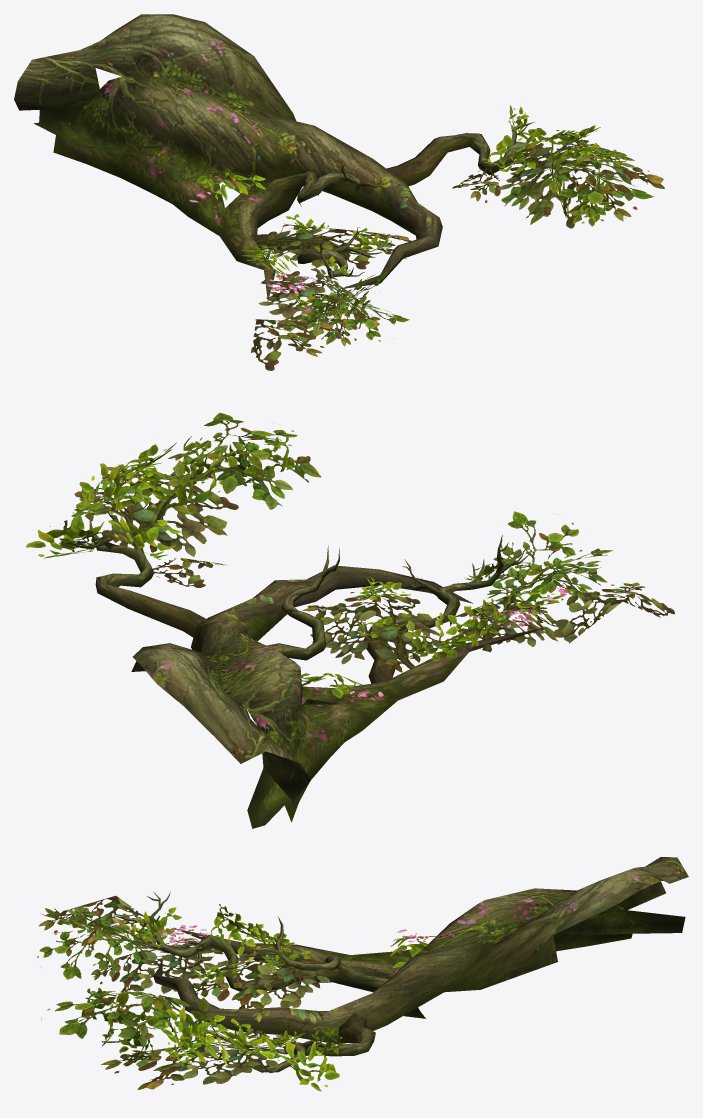
Rendered from S_Tree_Green125_A3.FBX.
The picture shows the model from 3 angles, top to bottom: view 1: azimuth 30°, elevation 25°; view 2: azimuth 150°, elevation 25°; view 3: azimuth 270°, elevation 25°; orthographic projection. The views are drawn at different scales.
Parts seen in each view (by area): view 1: S_Tree_Green125_A3_1, S_Tree_Green125_A3_2; view 2: S_Tree_Green125_A3_1, S_Tree_Green125_A3_2; view 3: S_Tree_Green125_A3_1, S_Tree_Green125_A3_2.
Boxes of the visible parts, <box> form: S_Tree_Green125_A3_1: <box>14,14,592,301</box>; S_Tree_Green125_A3_2: <box>189,105,664,370</box>; S_Tree_Green125_A3_1: <box>60,494,544,828</box>; S_Tree_Green125_A3_2: <box>26,412,674,701</box>; S_Tree_Green125_A3_1: <box>113,857,688,1073</box>; S_Tree_Green125_A3_2: <box>37,896,435,1091</box>.
Size of the model in its own units: 342 by 95.16 by 395.
